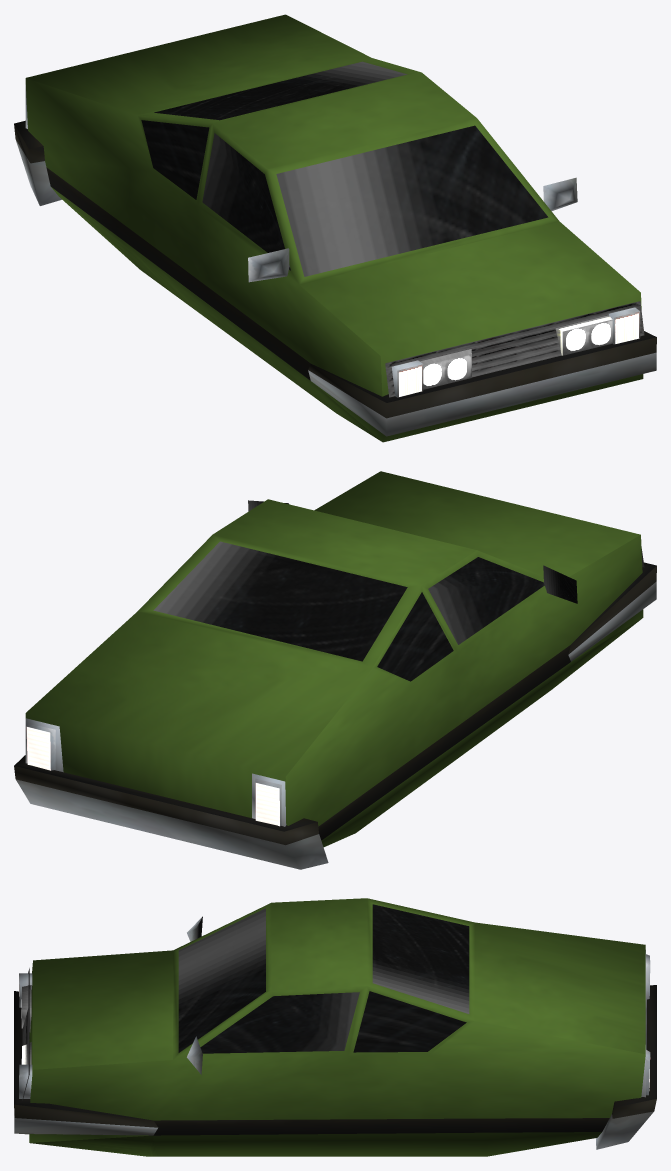
The model's file is EnemyCar_3_v3.fbx.
3 renders of one model, top to bottom at view 1: azimuth 30°, elevation 25°; view 2: azimuth 150°, elevation 25°; view 3: azimuth 270°, elevation 25°, orthographic. The views are drawn at different scales.
Parts seen in each view (by area): view 1: Sports.002; view 2: Sports.002; view 3: Sports.002.
Part boxes in pixels (box(x1,y1,x2,y2)): Sports.002: box(14, 14, 656, 442); Sports.002: box(14, 471, 656, 869); Sports.002: box(14, 898, 656, 1156).
Bounding box in the file's own units: 75.86 × 43.24 × 149.
